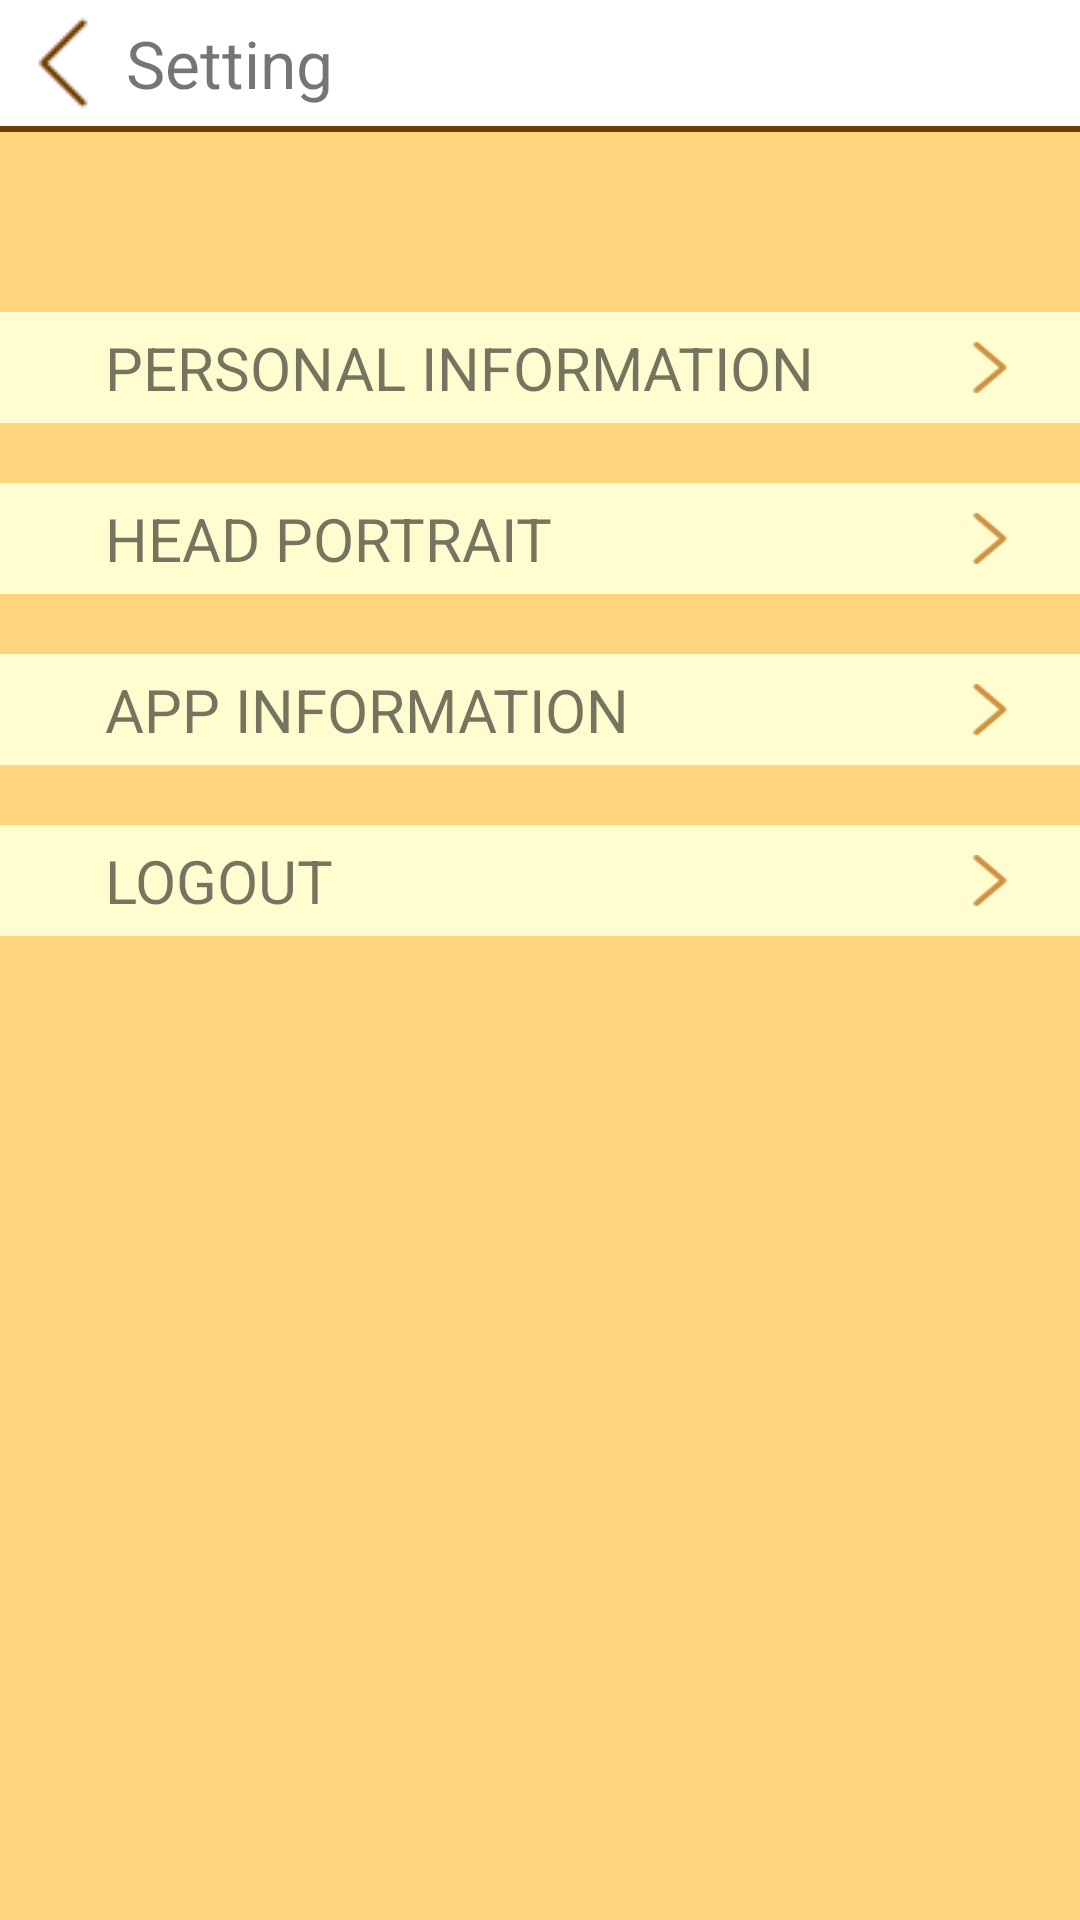

Screen size 1080 x 1920. Icon name, then its center in pixels as (x,y):
arrow: (990,367), (990,538), (990,709), (990,880)
left arrow: (63,63)
